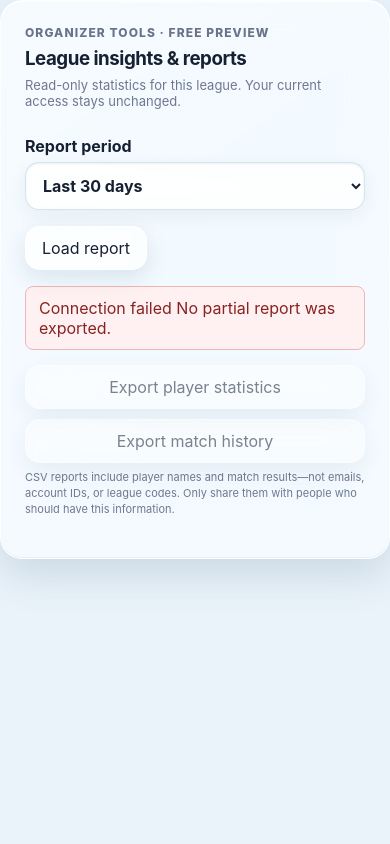
Test case: organizer insights › disables exports on loading failures and allows a retry
This screenshot has width=390, height=844.
Expected: the message shows "Connection failed", [39, 298, 172, 318]
Expected: the button "Export player statistics" is disabled, [25, 365, 365, 409]
Click the button "Load report" at (86, 248), box [25, 226, 147, 270]
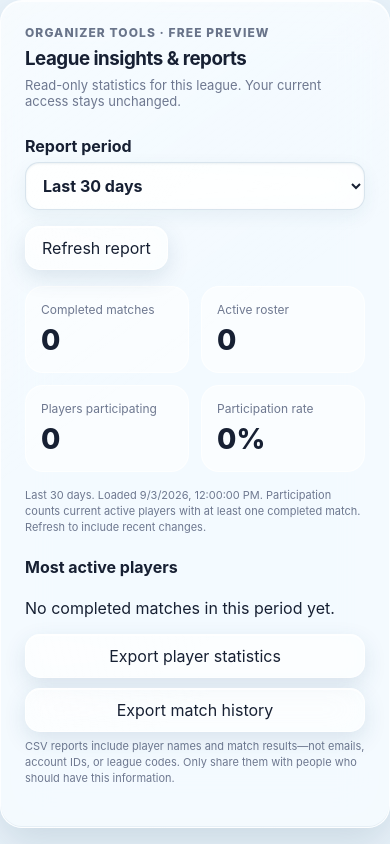
Result: the button "Export player statistics" is enabled at [25, 634, 365, 678]
Result: the message "Connection failed No partial report was exported." is gone
